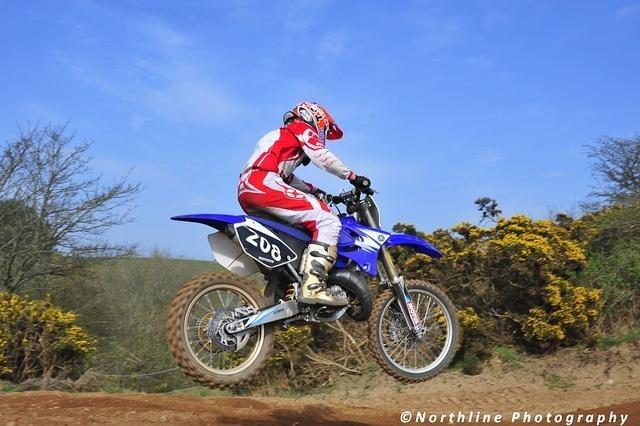motorcycle: (167, 176, 460, 391)
